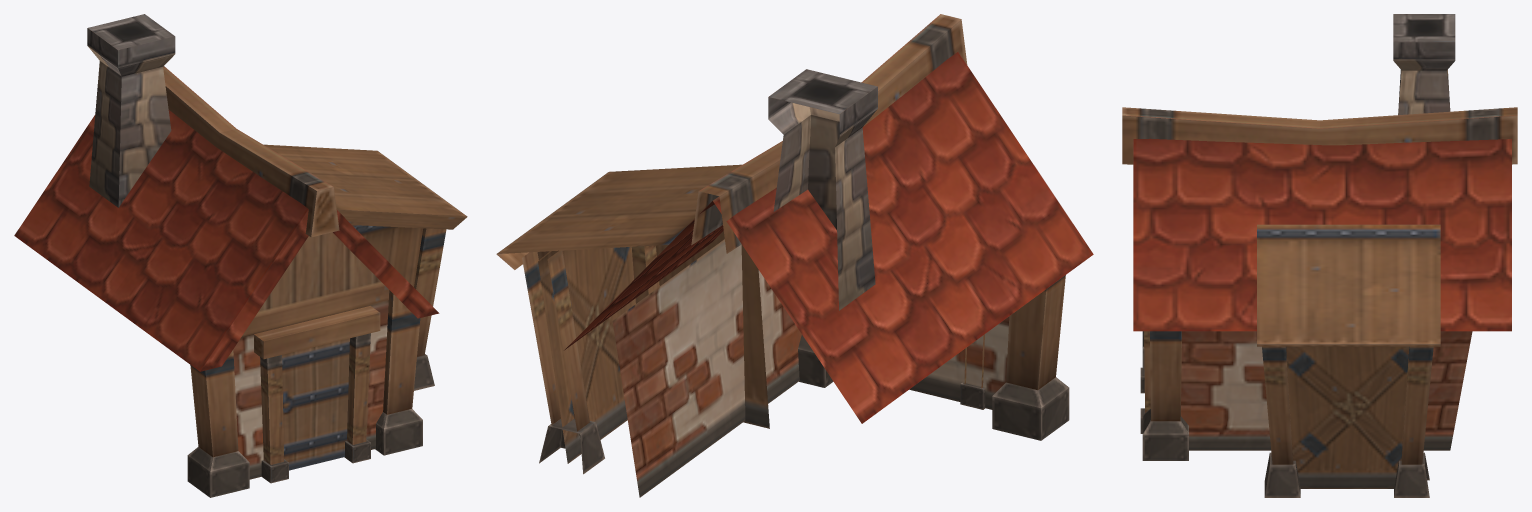
The model's file is paran_house_warehouse.FBX.
The picture shows the model from 3 angles, left to right: view 1: azimuth 30°, elevation 25°; view 2: azimuth 150°, elevation 25°; view 3: azimuth 270°, elevation 25°; orthographic projection. The views are drawn at different scales.
Visible parts, largest first — view 1: Object098; view 2: Object098; view 3: Object098.
Part boxes in pixels (<box>): Object098: <box>14,14,467,497</box>; Object098: <box>496,14,1093,497</box>; Object098: <box>1122,14,1517,497</box>.
Bounding box in the file's own units: 125 × 128 × 128.
